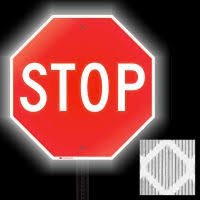stop sign: (9, 13, 155, 160)
